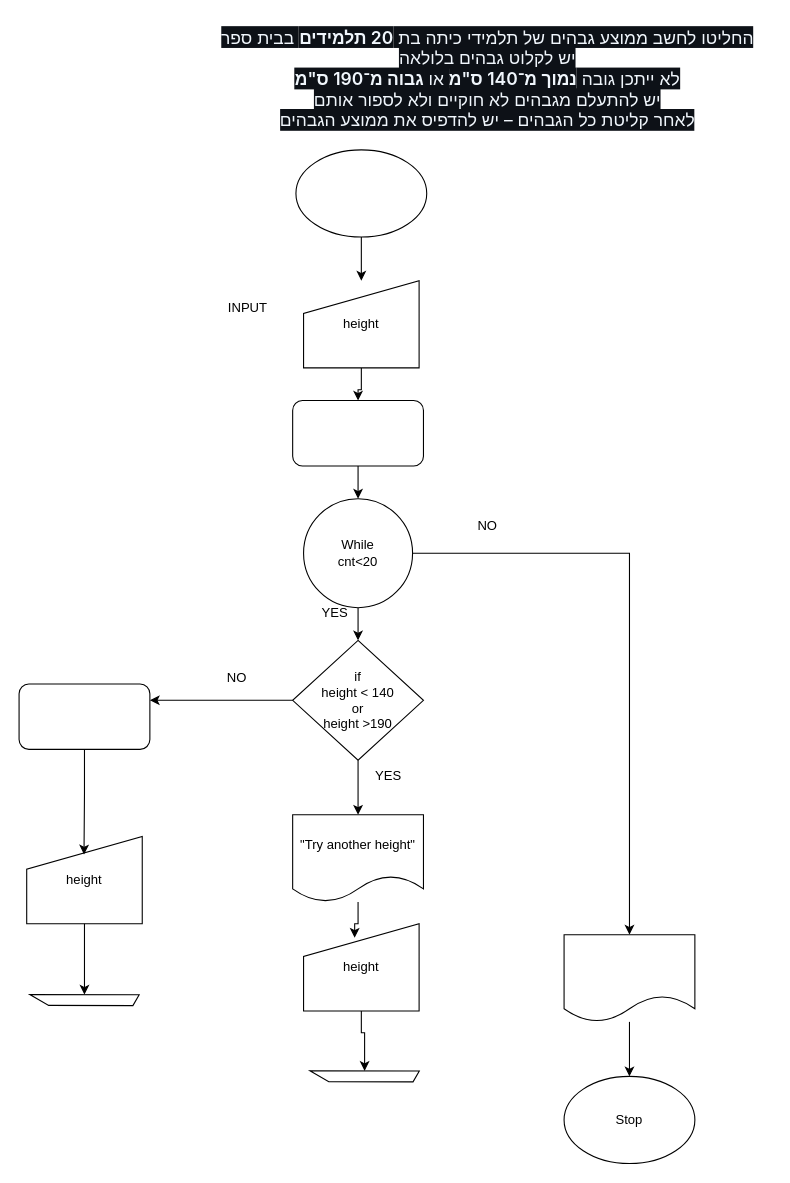
This 790x1183 diagram has some shape labels left out. Each missing label, with the centre of its shape:
"avg=", sum/cnt: the point at 629,978
cnt+=1 sum+=height: the point at 84,716
cnt=0 sum=0: the point at 357,432
Start: the point at 361,193
